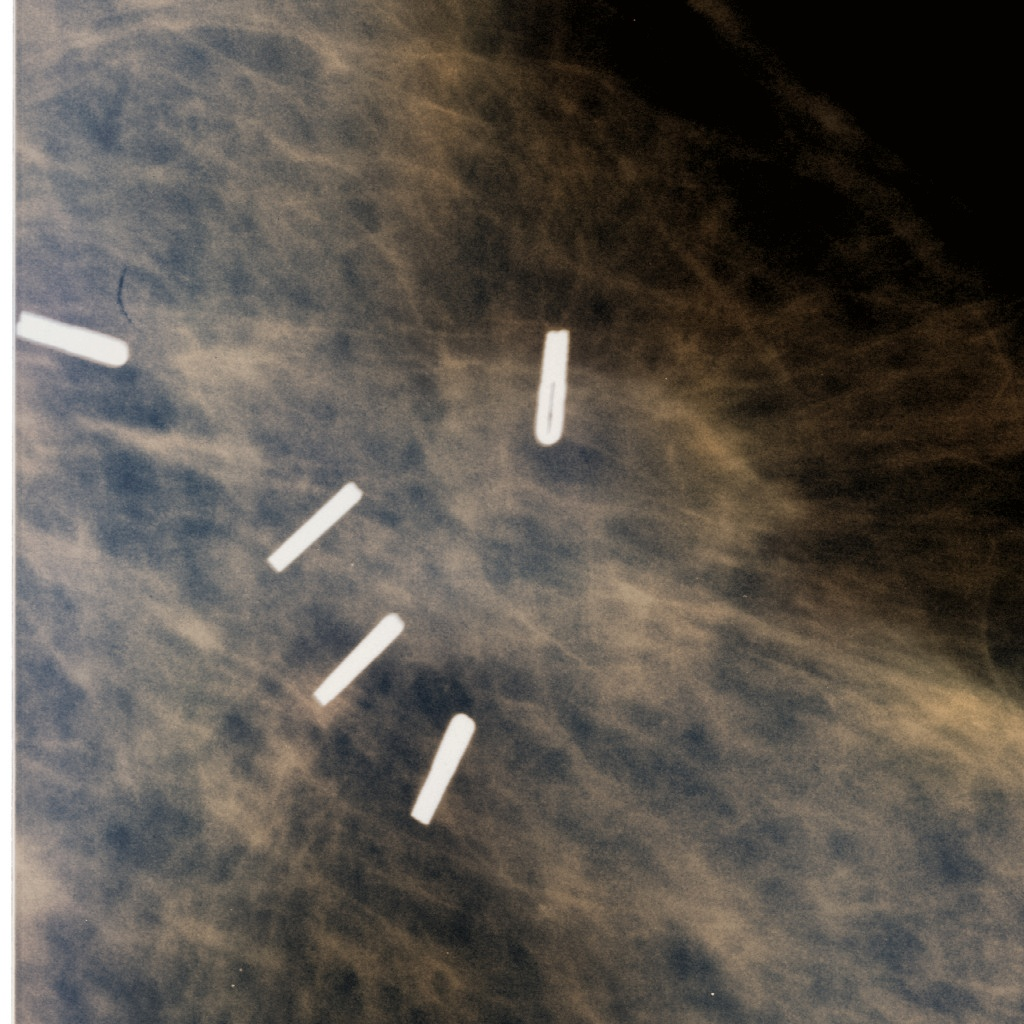tumor: (237, 308, 737, 716)
